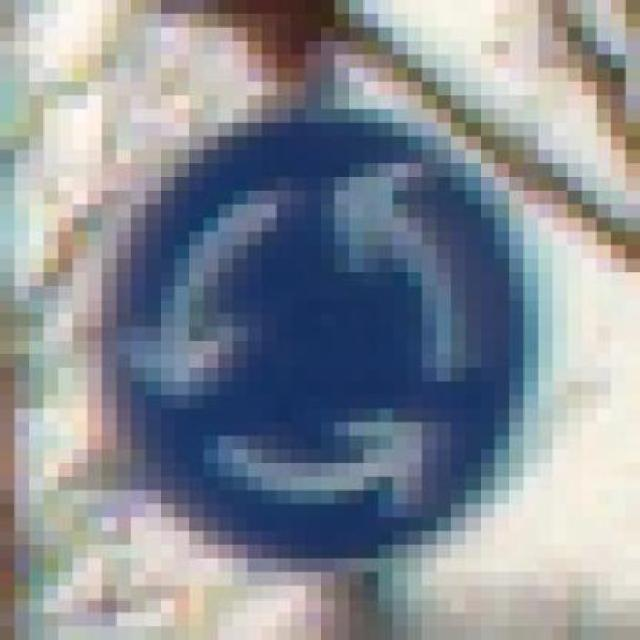Round-About: (72, 55, 568, 599)
